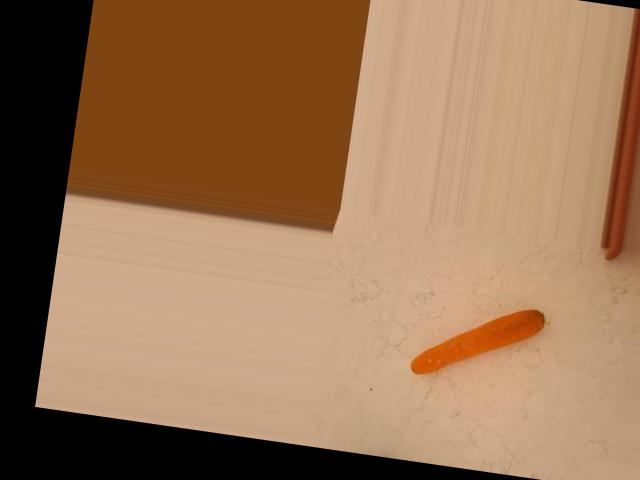carrot: (409, 290, 547, 392)
